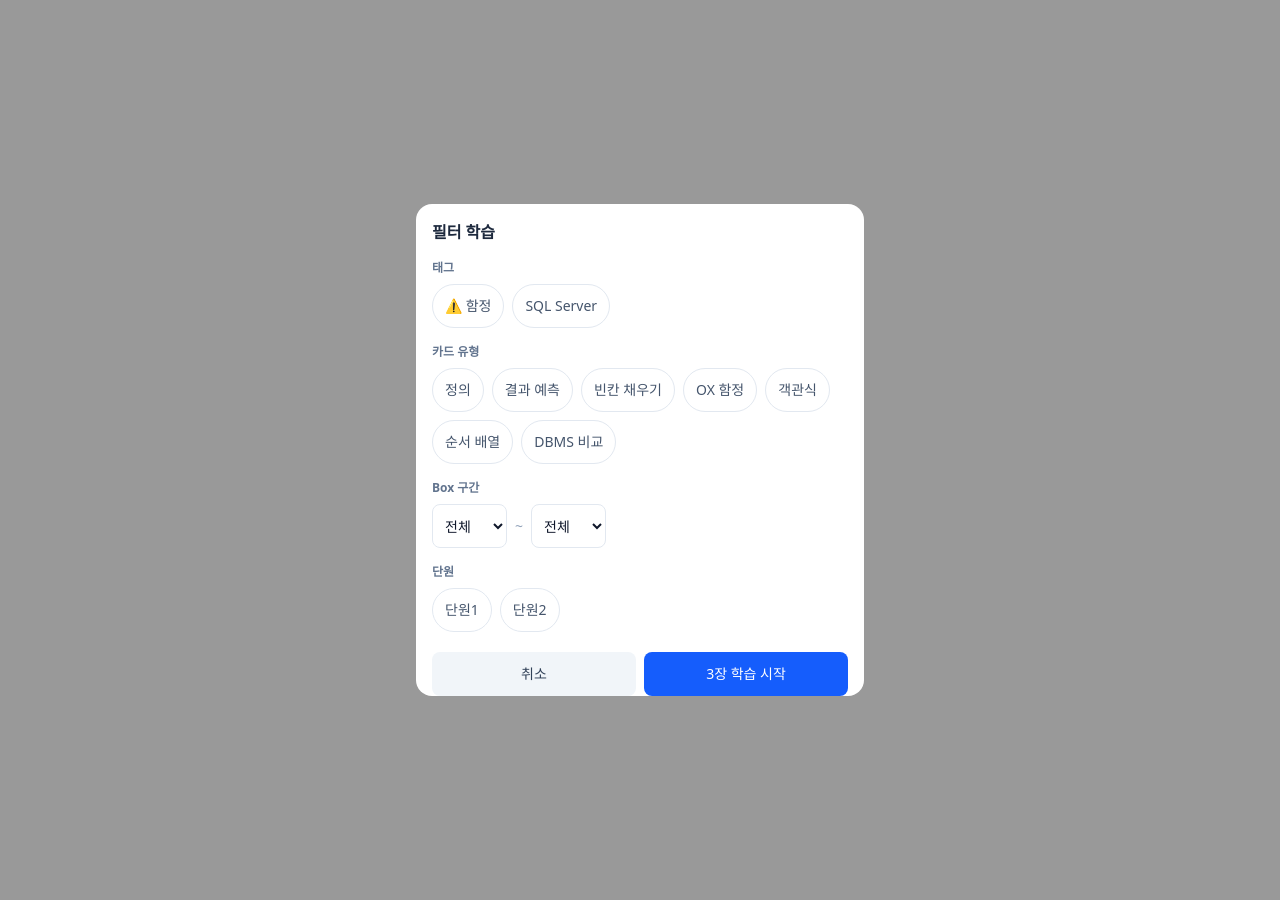
Test case: FilterModal › 조건에 맞는 카드가 없으면 시작 버튼이 비활성화된다
Click the button "⚠️ 함정". click: (468, 306)
box: [432,284,504,328]
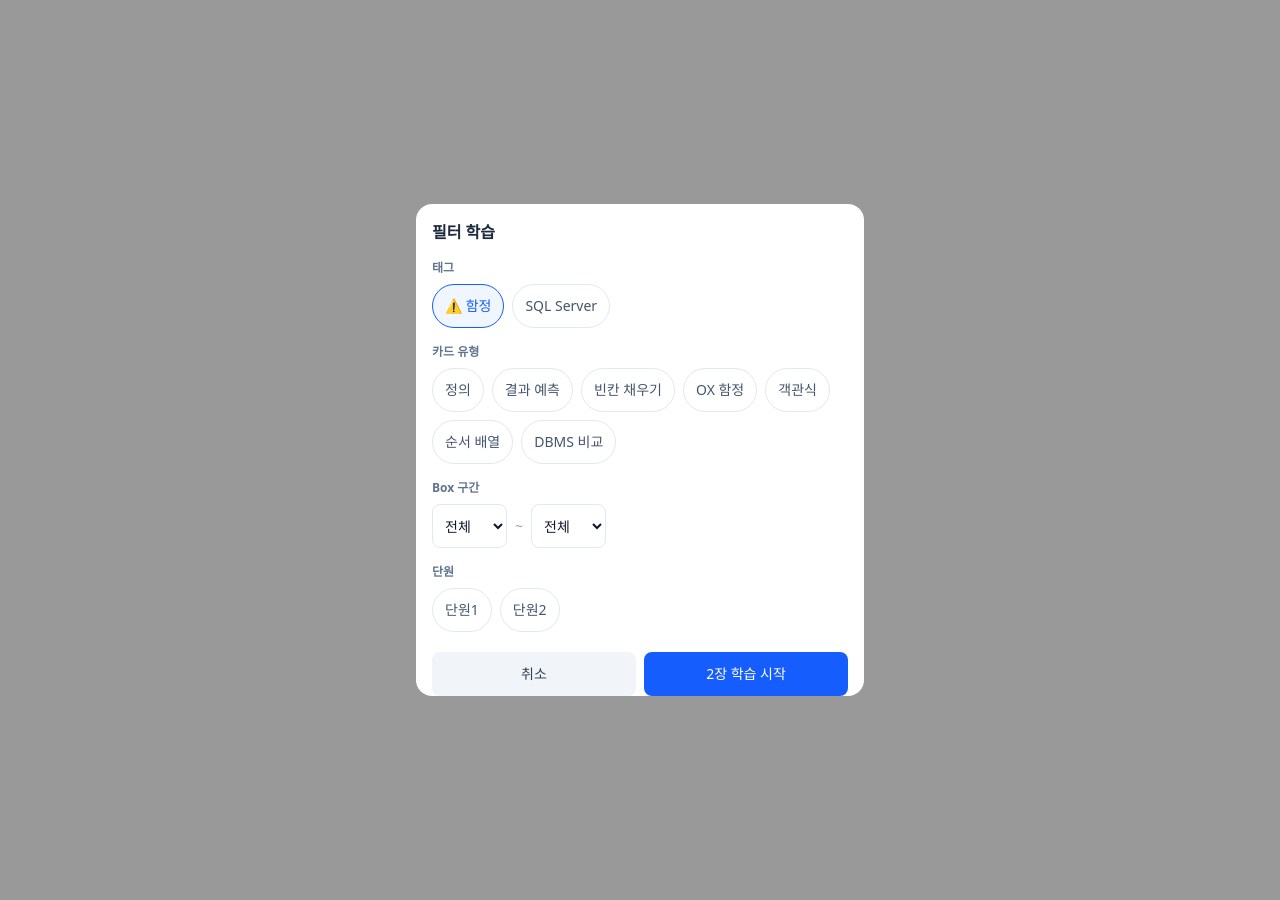
Click the button "객관식". click: (798, 390)
box: [765,368,830,412]
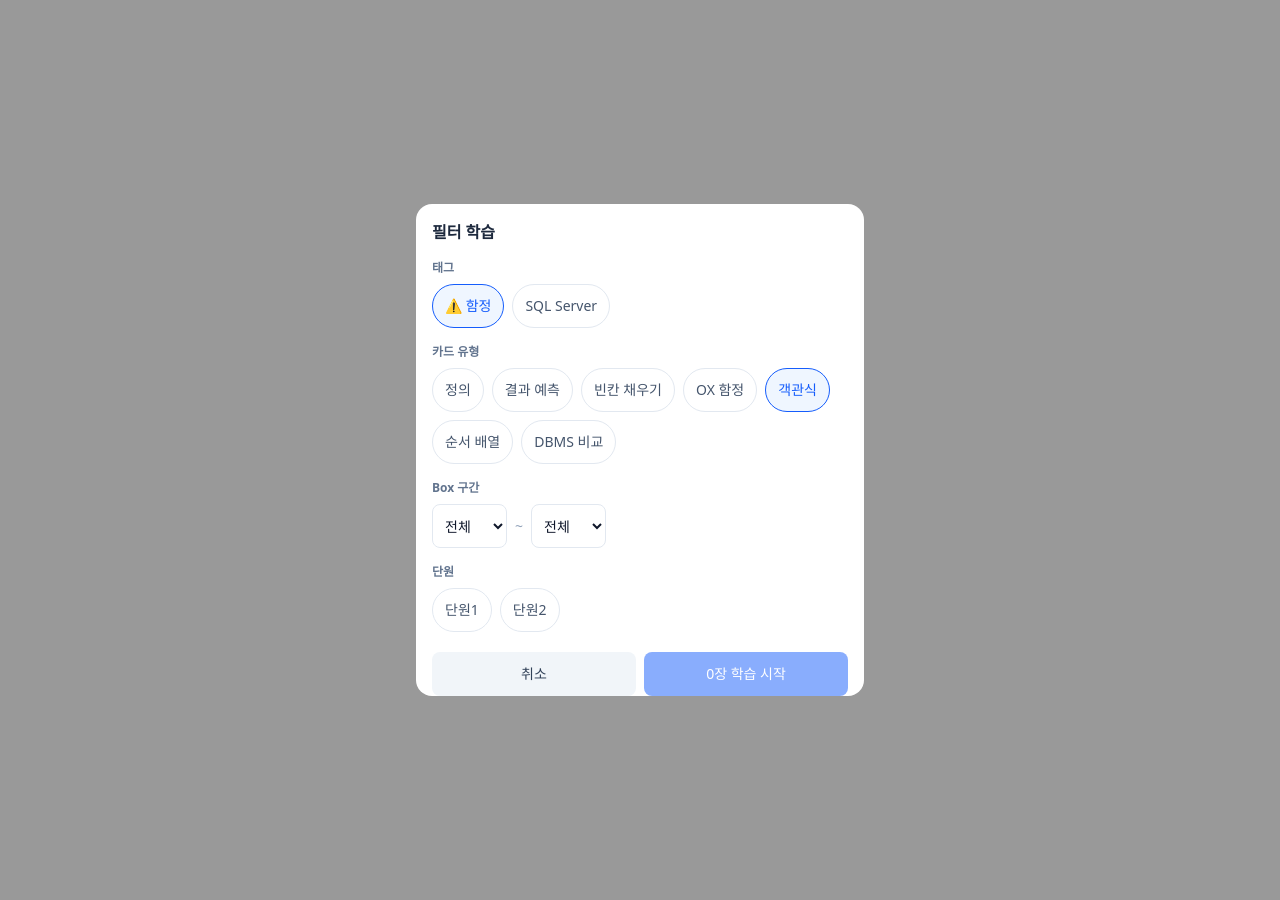
Check: the button "0장 학습 시작" is disabled, box [644,652,848,696]
